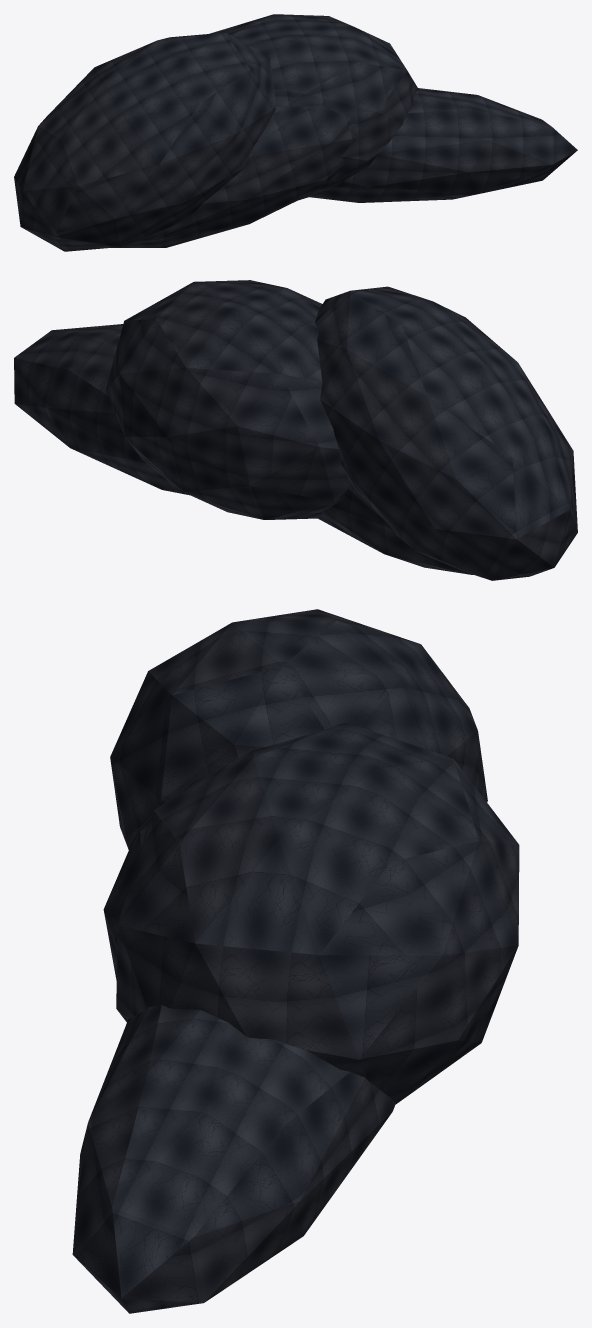
File: blackstone-cliff-edge.glb
3 views of the same model, one above another, from view 1: azimuth 30°, elevation 25°; view 2: azimuth 150°, elevation 25°; view 3: azimuth 270°, elevation 25° (orthographic). The views are drawn at different scales.
Visible parts, largest first — view 1: Cliff_Rock_1, Cliff_Rock_4, Cliff_Rock_3, Cliff_Rock_2; view 2: Cliff_Rock_1, Cliff_Rock_3, Cliff_Rock_4, Cliff_Rock_2; view 3: Cliff_Rock_3, Cliff_Rock_4, Cliff_Rock_1, Cliff_Rock_2.
Part boxes in pixels (x1=…): Cliff_Rock_1: x1=14, y1=32, x2=276, y2=251; Cliff_Rock_4: x1=309, y1=88, x2=577, y2=202; Cliff_Rock_3: x1=209, y1=14, x2=418, y2=199; Cliff_Rock_2: x1=112, y1=105, x2=356, y2=247; Cliff_Rock_1: x1=315, y1=286, x2=577, y2=580; Cliff_Rock_3: x1=106, y1=280, x2=350, y2=519; Cliff_Rock_4: x1=14, y1=324, x2=189, y2=495; Cliff_Rock_2: x1=318, y1=482, x2=473, y2=574; Cliff_Rock_3: x1=116, y1=722, x2=519, y2=1104; Cliff_Rock_4: x1=72, y1=1005, x2=395, y2=1313; Cliff_Rock_1: x1=110, y1=609, x2=487, y2=849; Cliff_Rock_2: x1=103, y1=817, x2=151, y2=980.
Size of the model in its own units: 12.31 by 4.6 by 4.74.
Materials: 1 (1 with a texture image).
